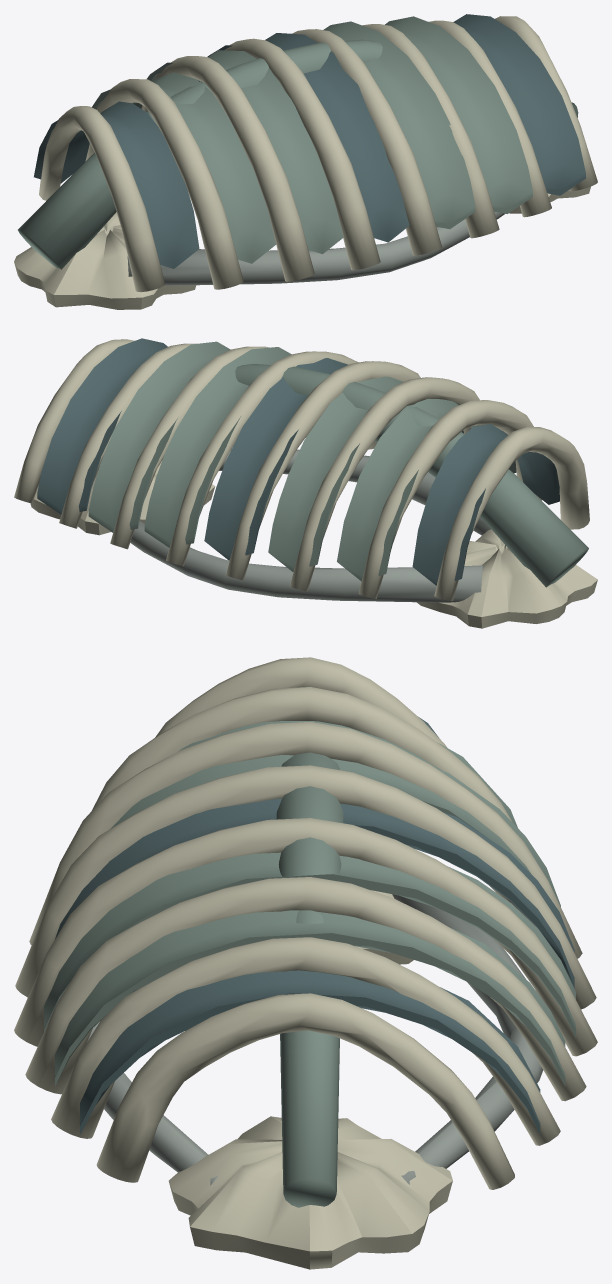
Rendered from ribbed_vent_lung_lod1.glb.
3 views of the same model, one above another, from view 1: azimuth 30°, elevation 25°; view 2: azimuth 150°, elevation 25°; view 3: azimuth 270°, elevation 25° (orthographic). The views are drawn at different scales.
Parts seen in each view (by area): view 1: LOD1_calcite, LOD1_tissue_mature, LOD1_tissue_fold, LOD1_tissue; view 2: LOD1_calcite, LOD1_tissue_mature, LOD1_tissue_fold, LOD1_tissue; view 3: LOD1_calcite, LOD1_tissue_mature, LOD1_tissue_fold, LOD1_tissue.
Boxes of the visible parts, x1,y1,x2,y2 form: LOD1_calcite: [14, 16, 597, 309]; LOD1_tissue_mature: [18, 16, 578, 269]; LOD1_tissue_fold: [34, 14, 585, 268]; LOD1_tissue: [127, 211, 504, 285]; LOD1_calcite: [14, 339, 597, 628]; LOD1_tissue_mature: [88, 341, 588, 587]; LOD1_tissue_fold: [37, 338, 559, 585]; LOD1_tissue: [130, 449, 490, 602]; LOD1_calcite: [14, 657, 597, 1269]; LOD1_tissue_mature: [44, 721, 575, 1207]; LOD1_tissue_fold: [55, 717, 574, 1134]; LOD1_tissue: [87, 894, 543, 1185].
Bounding box in the file's own units: 3.31 × 1.04 × 1.99.
